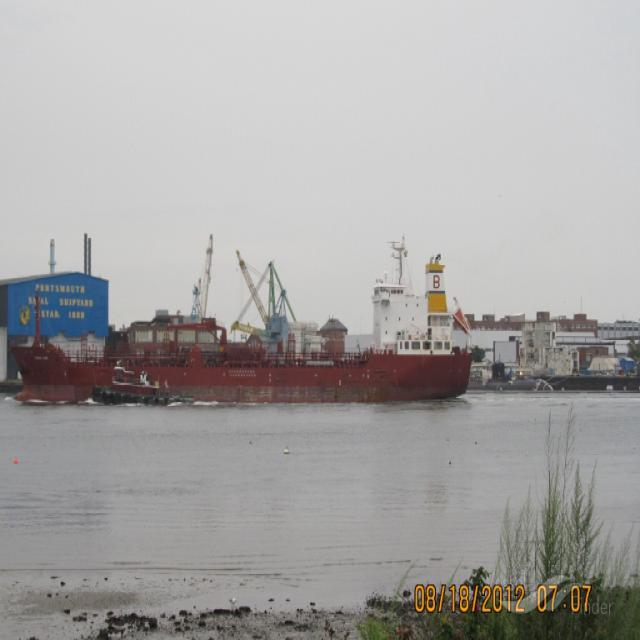Oil Tanker: (14, 267, 490, 410)
tugboat: (88, 356, 175, 418)
